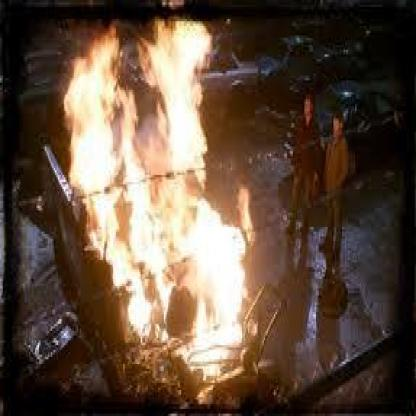fire: (45, 15, 268, 362)
